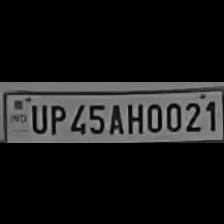0: (162, 99, 182, 133), (144, 100, 162, 134)
1: (202, 98, 218, 132)
2: (182, 97, 200, 132)
4: (66, 100, 86, 134)
5: (84, 100, 106, 134)
A: (107, 100, 125, 136)
H: (124, 99, 144, 135)
P: (47, 101, 65, 135)
U: (27, 100, 47, 134)
